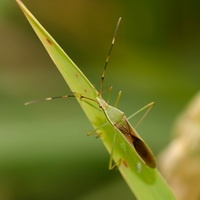insect: (24, 11, 155, 167)
